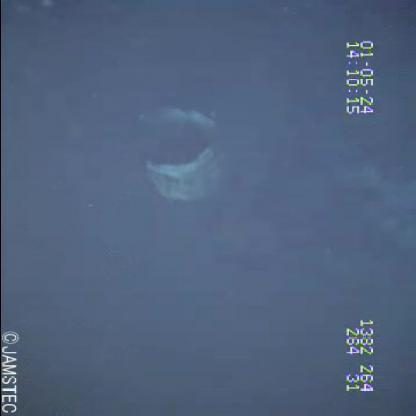Rác: (124, 101, 228, 209)
